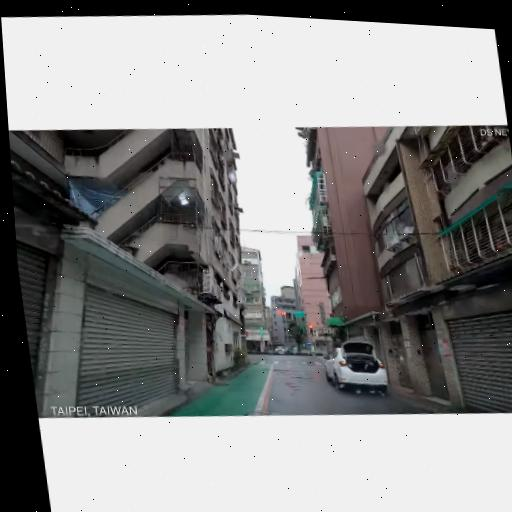Car: (323, 338, 390, 396)
